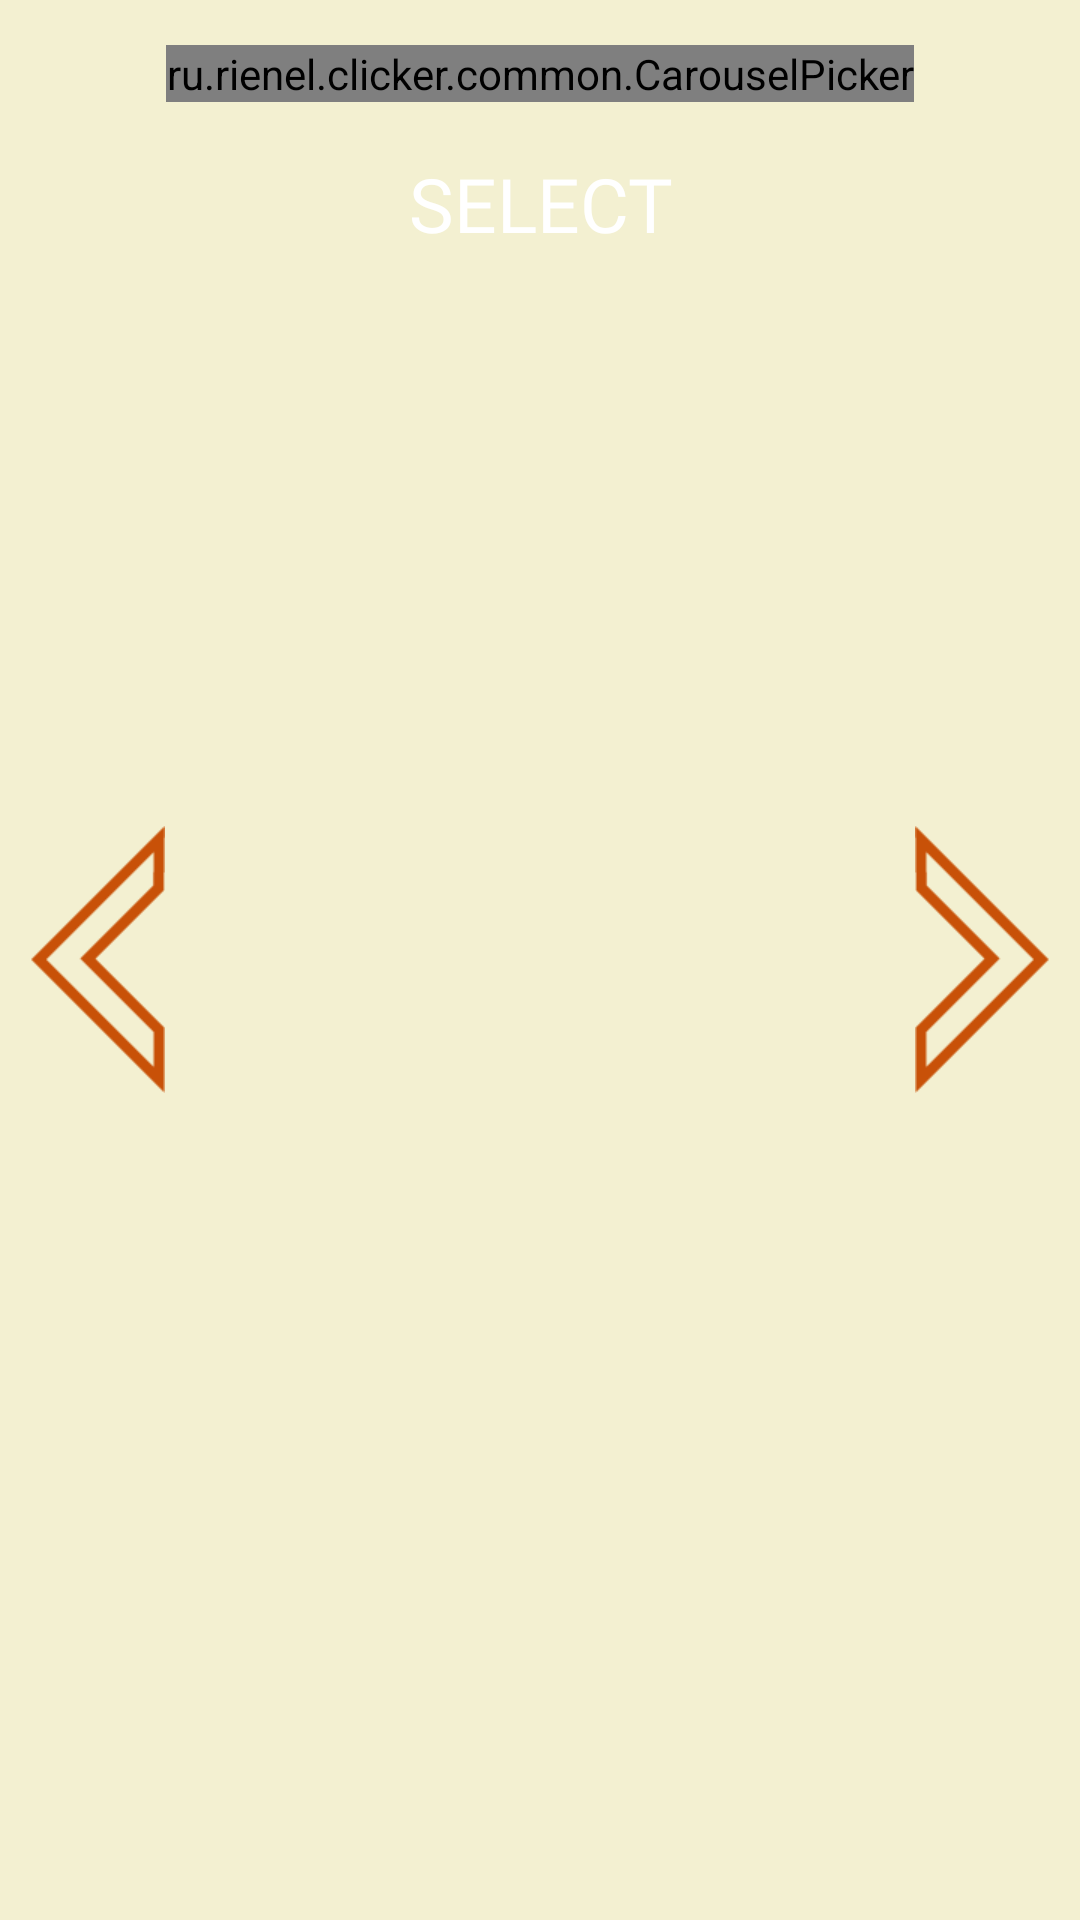

Where to tap for icons on this 1080w x 1920h app screen, as point (x, y):
left: point (98, 959)
right: point (982, 959)
